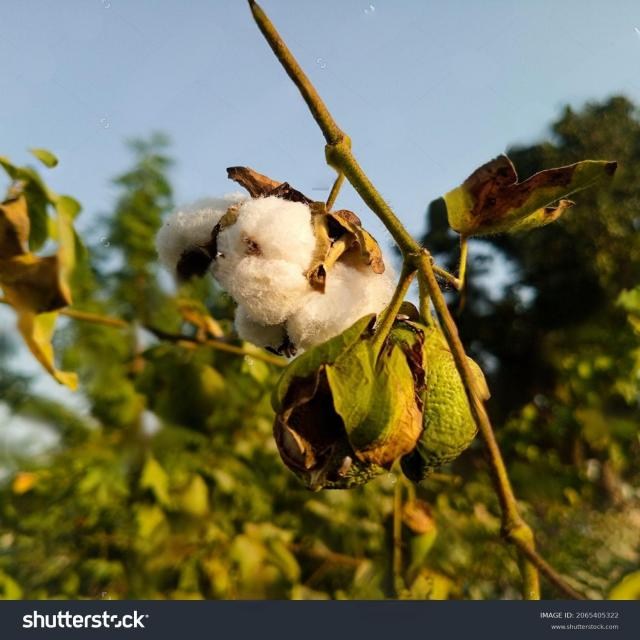Leaf: (136, 154, 405, 362)
